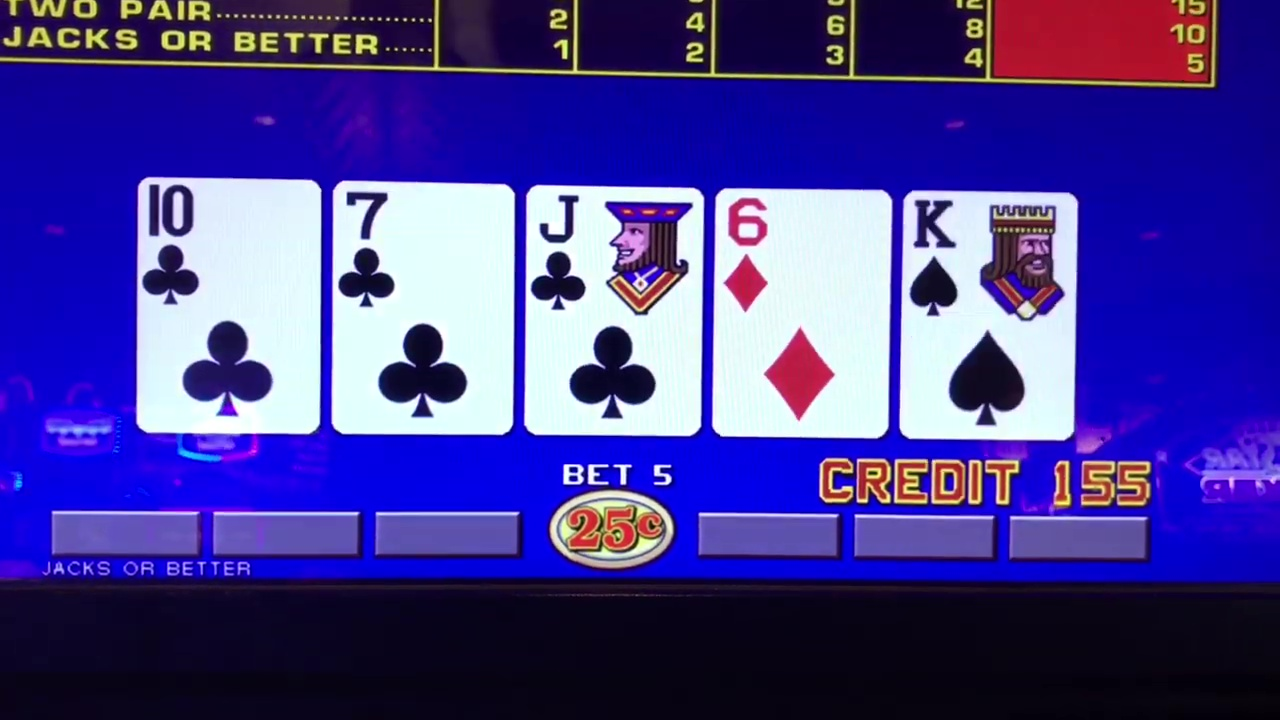C7: (341, 185, 505, 433)
CJ: (532, 187, 691, 434)
CT: (141, 181, 313, 430)
D6: (717, 187, 891, 436)
SK: (909, 188, 1073, 443)
